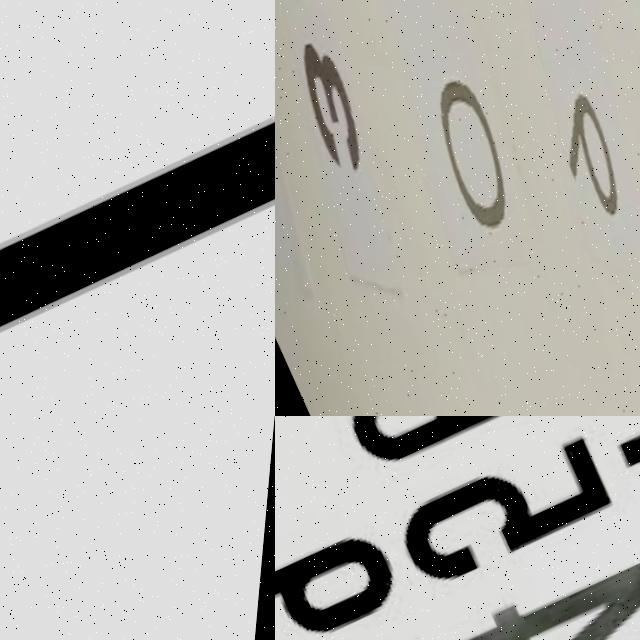0: (386, 41, 578, 276)
3: (275, 0, 448, 253)
4: (451, 520, 640, 640)
5: (393, 416, 633, 602)
6: (336, 416, 569, 485)
9: (500, 29, 640, 264), (275, 507, 422, 640), (275, 0, 326, 172)
J: (0, 416, 275, 640)
T: (0, 0, 275, 416)
